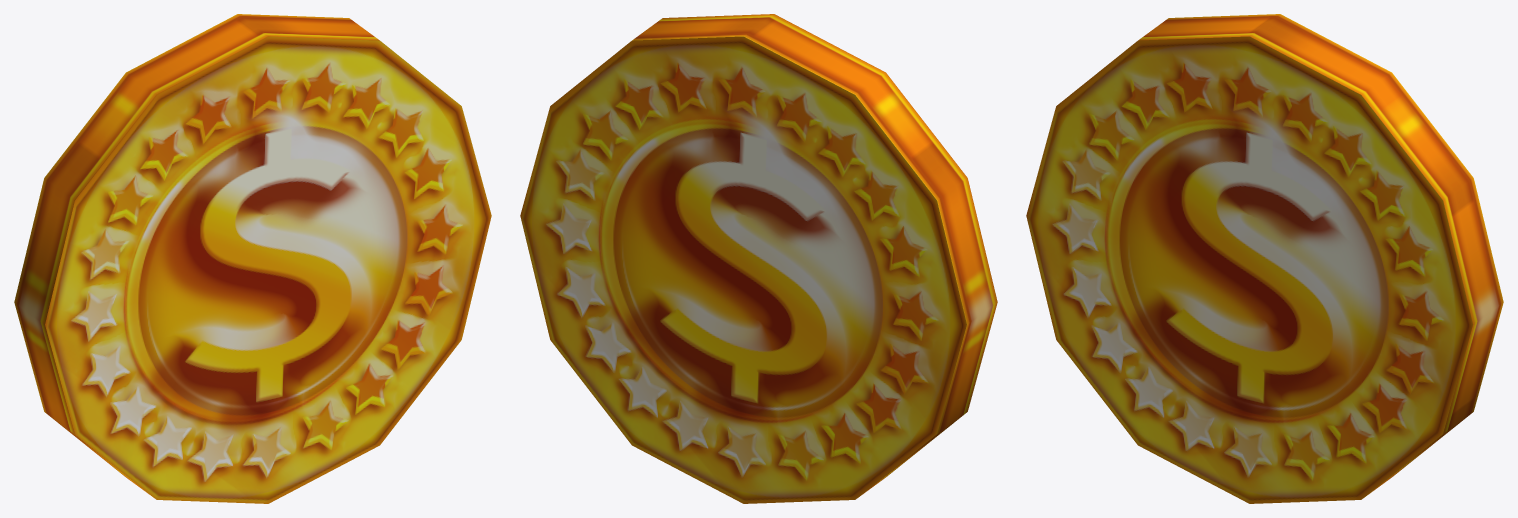
Rendered from bon_money.FBX.
3 views of the same model, side by side, from view 1: azimuth 30°, elevation 25°; view 2: azimuth 150°, elevation 25°; view 3: azimuth 330°, elevation 25° (orthographic).
Parts seen in each view (by area): view 1: bon_money; view 2: bon_money; view 3: bon_money.
Boxes of the visible parts, x1,y1,x2,y2 form: bon_money: (14,14,491,503); bon_money: (520,14,997,503); bon_money: (1026,14,1503,503).
Bounding box in the file's own units: 59.96 × 59.96 × 7.15.
